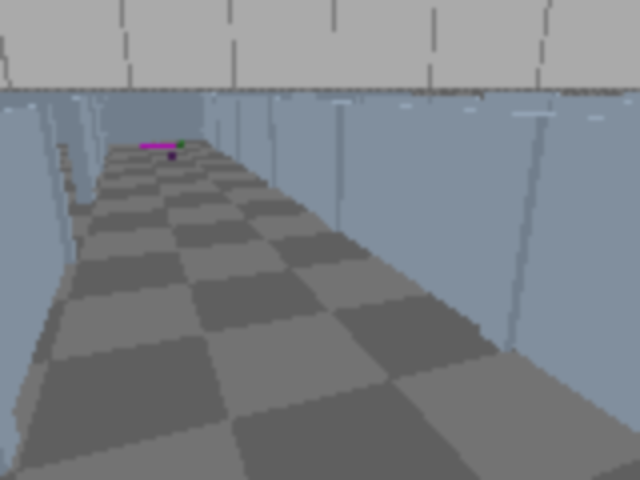goal_zone: (140, 143, 183, 150)
